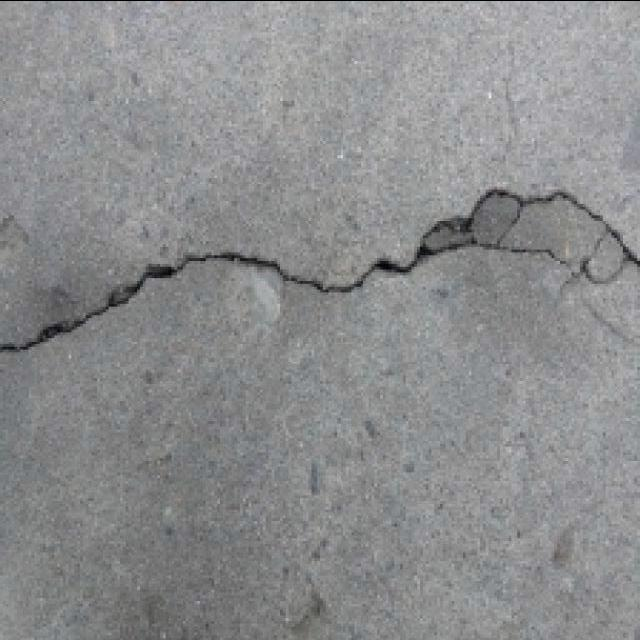SurfaceCrack: (0, 150, 626, 374)
